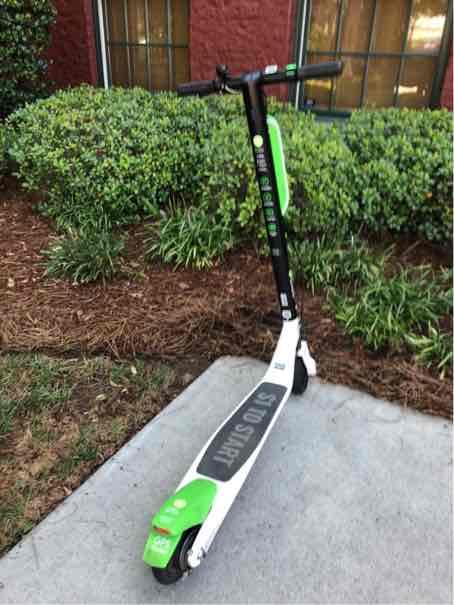scooter: (124, 55, 354, 593)
